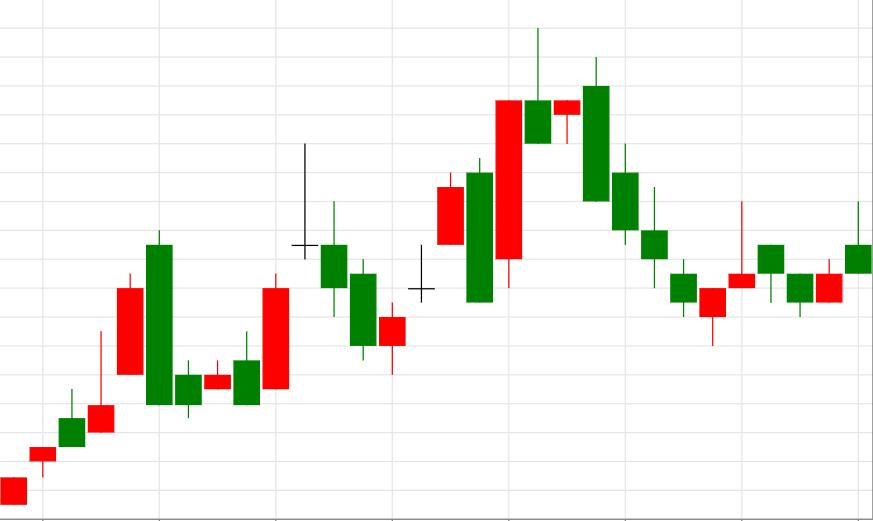bearish_engulfing_fall: (0, 230, 173, 505)
shooting_star_fall: (379, 28, 551, 375)
